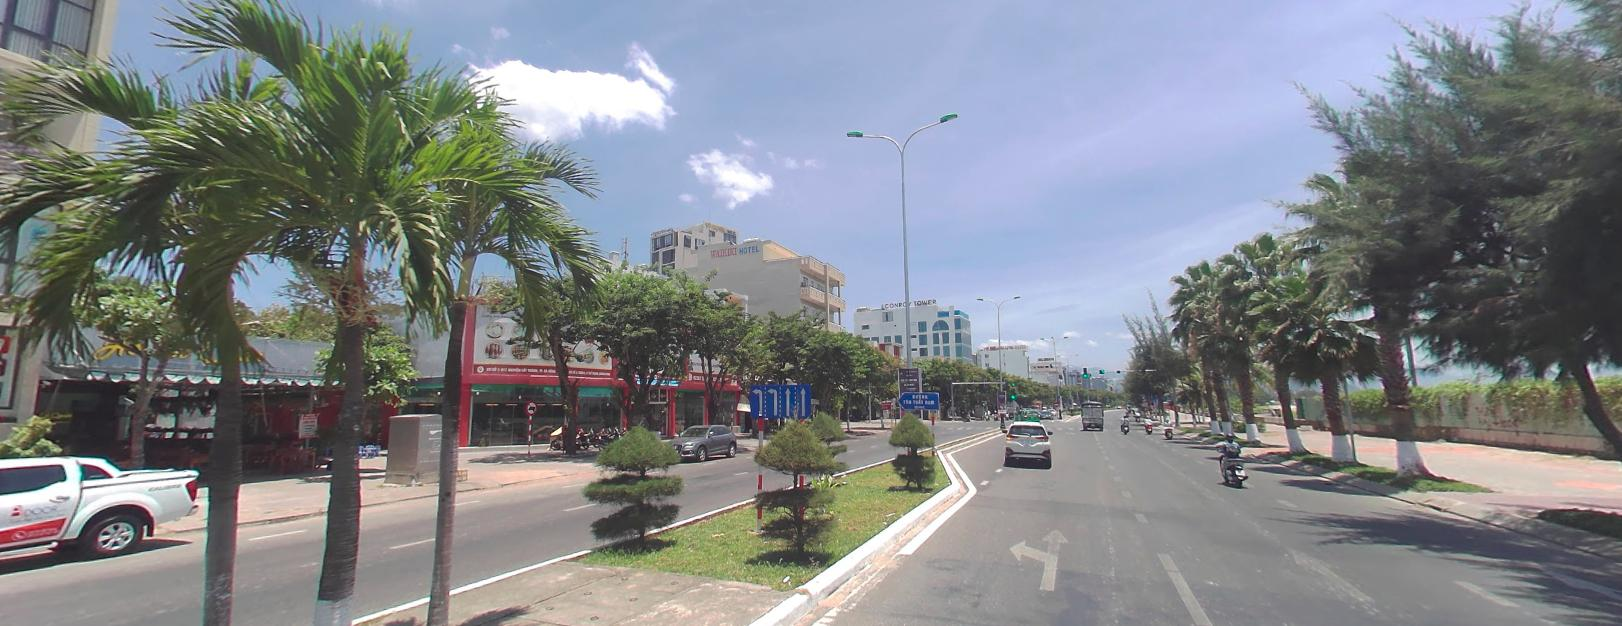Cam con lai: (524, 399, 536, 413)
Cam nguoc chieu: (1053, 400, 1058, 405)
